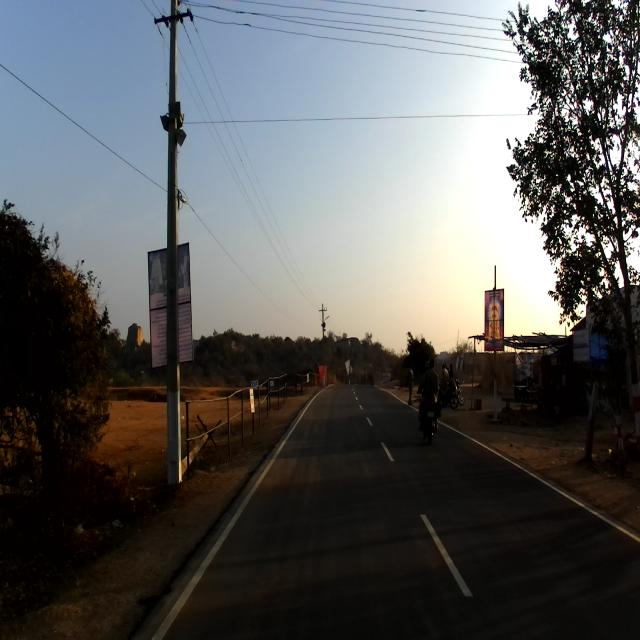electric pole ahead at: (149, 0, 206, 499)
